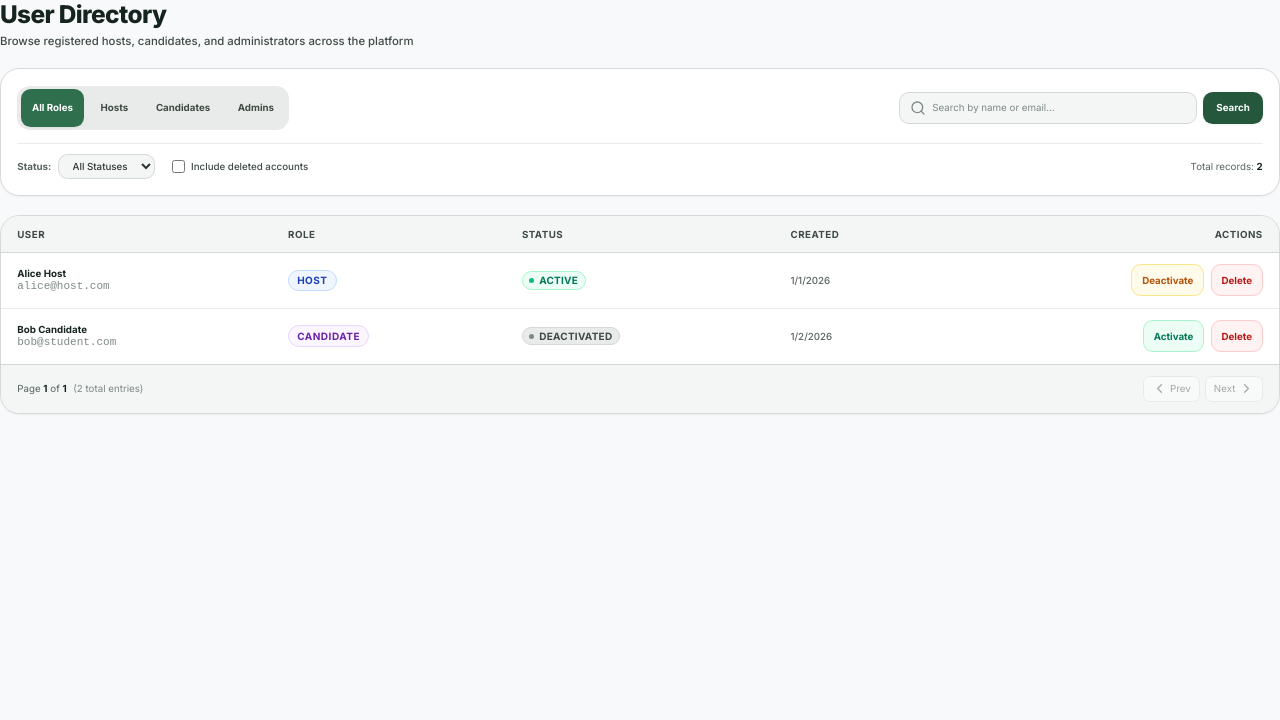
Test case: Batch 3: Admin Portal Comprehensive Automated Tests › Admin User Management › opens delete confirmation modal and executes deletion
Later steps or results of the test are not shown.
Expected: the text "Alice Host" is shown, [17,268,66,279]
What coordinates should you click on to do the following:
click the button "Delete" in the row of "Alice Host"
I would click on:
 (1237, 280)
Its box is [1211,264,1263,296].
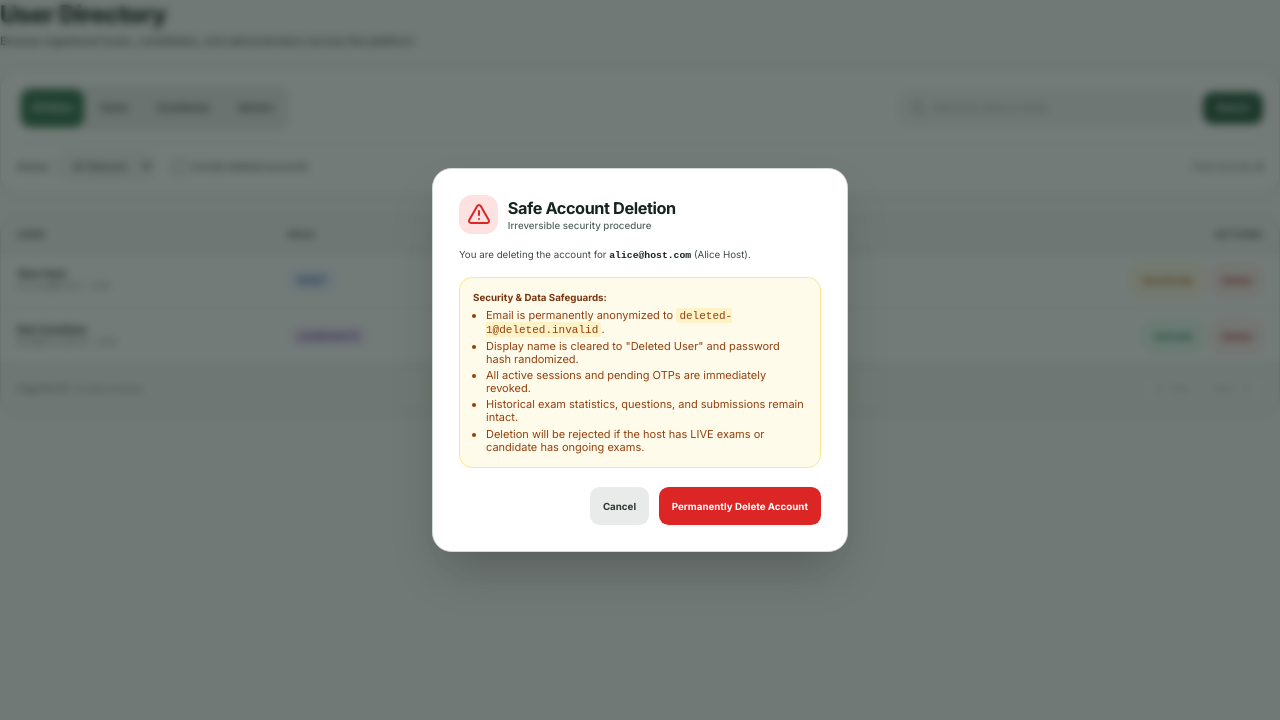
Expected: the heading "Safe Account Deletion" is shown, [508,196,676,219]
